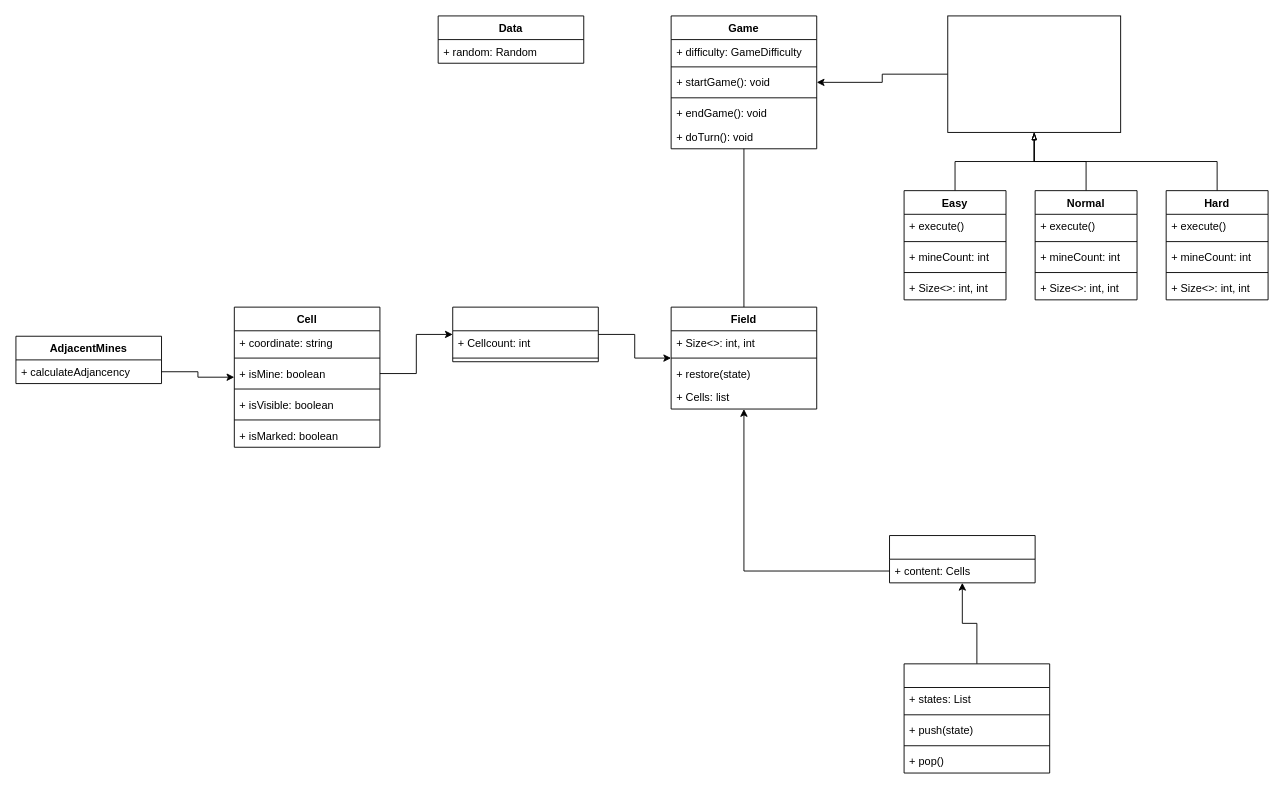
Image size: 1284x792. Some labels were removed from this diagram. Here are the shapes that lost their labels. From the top down, the box of each, then its label:
(947, 15, 1121, 132): <<Interface>> GameDifficulty + execute() + mineCount: int + Size<>: int, int
(452, 306, 598, 362): Cells
(889, 535, 1035, 583): FieldMemento
(903, 663, 1050, 773): FieldCaretaker
